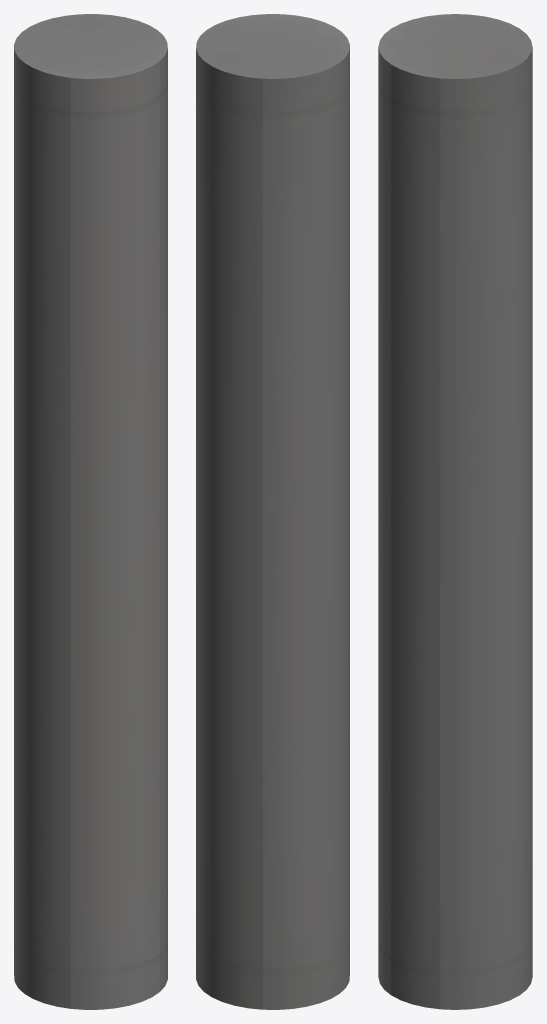
The model's file is seat__seat_hinge_tube.glb.
3 renders of one model, left to right at view 1: azimuth 30°, elevation 25°; view 2: azimuth 150°, elevation 25°; view 3: azimuth 270°, elevation 25°, orthographic.
Parts seen in each view (by area): view 1: world; view 2: world; view 3: world.
Boxes of the visible parts, x1,y1,x2,y2 form: world: (14,14,167,1009); world: (196,14,349,1009); world: (378,14,532,1009).
Bounding box in the file's own units: 0.036 × 0.24 × 0.036.
1 material, 1 textured.
